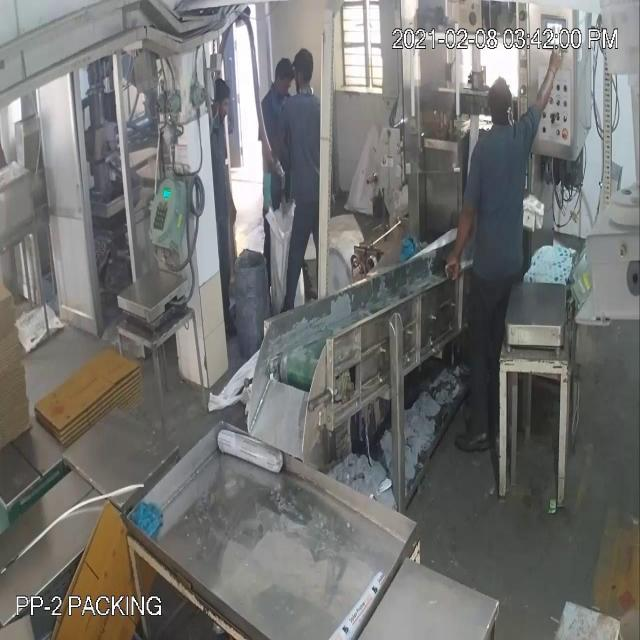No_Gloves: (38, 76, 549, 232)
